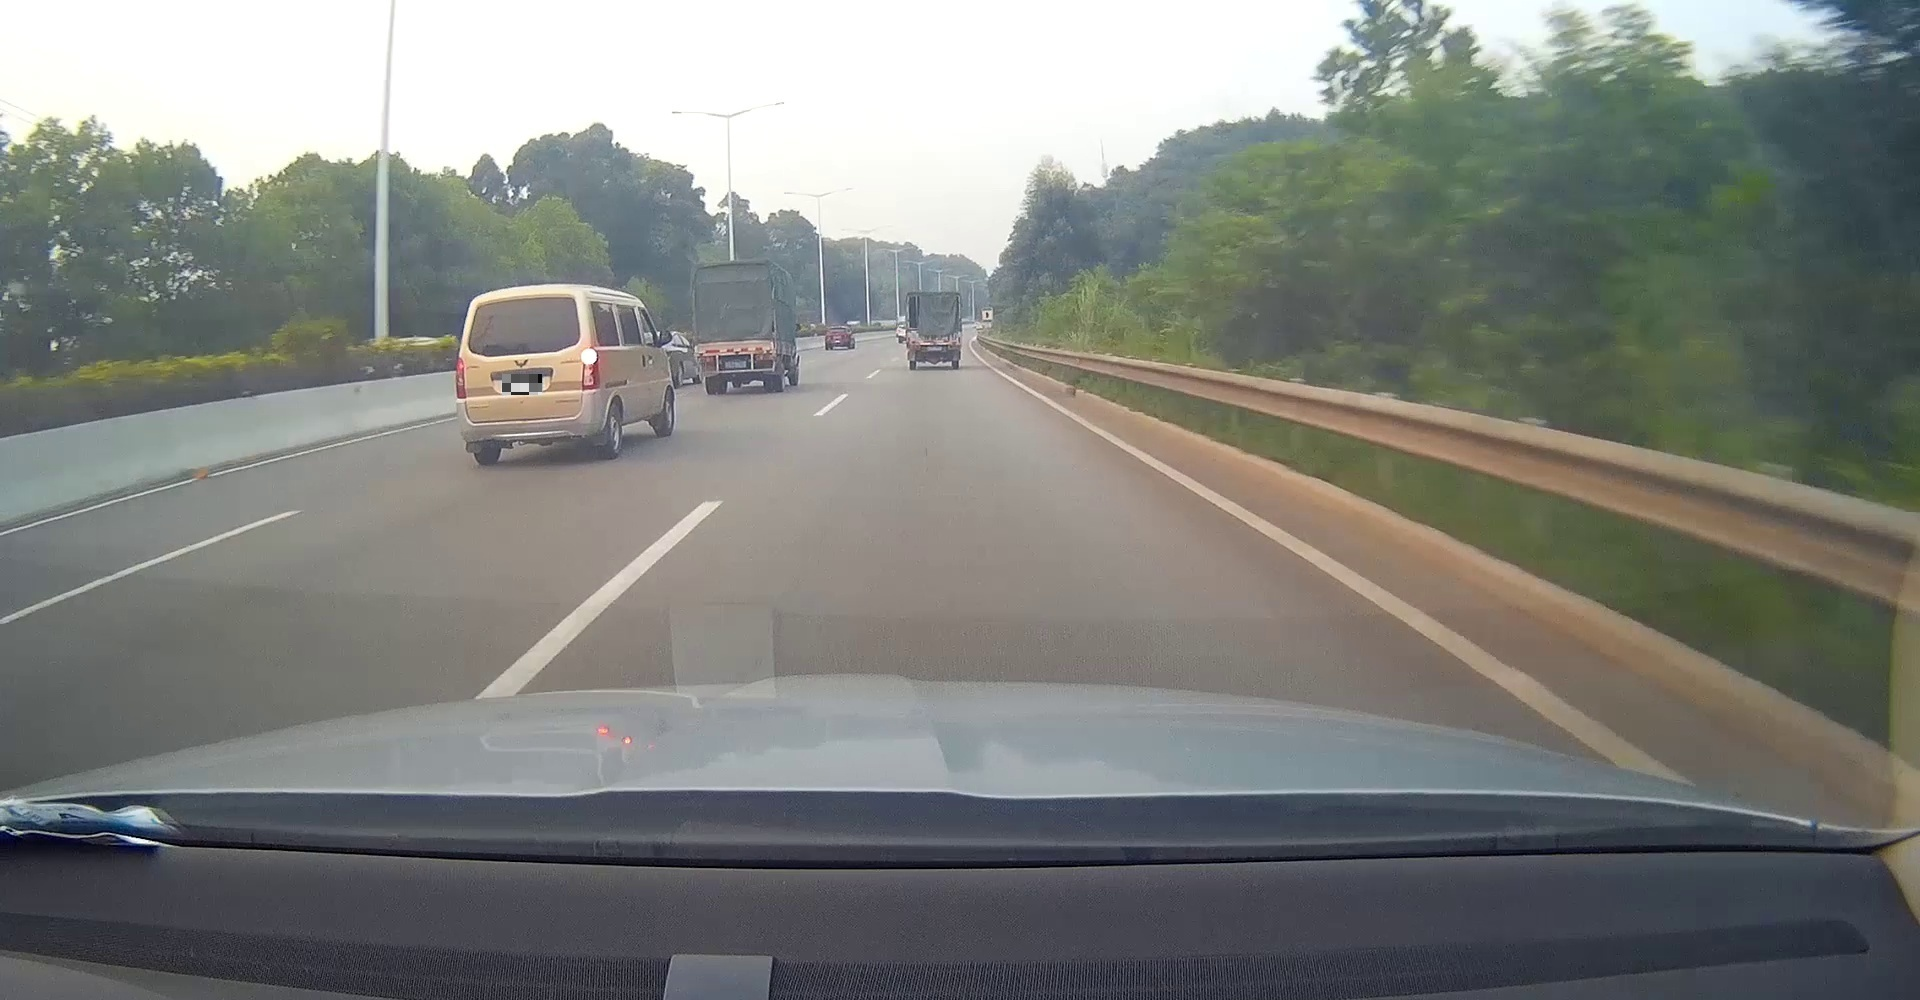L_light: (456, 357, 466, 398), (697, 357, 714, 362), (910, 345, 919, 349)
R_light: (582, 346, 599, 390), (754, 354, 773, 360), (949, 345, 959, 349)
T_light: (510, 299, 535, 305), (726, 343, 742, 349), (930, 334, 938, 338)
day-no: (692, 258, 777, 396), (905, 292, 961, 371)
day-right: (455, 284, 601, 464)
plate_1: (502, 374, 542, 395)
